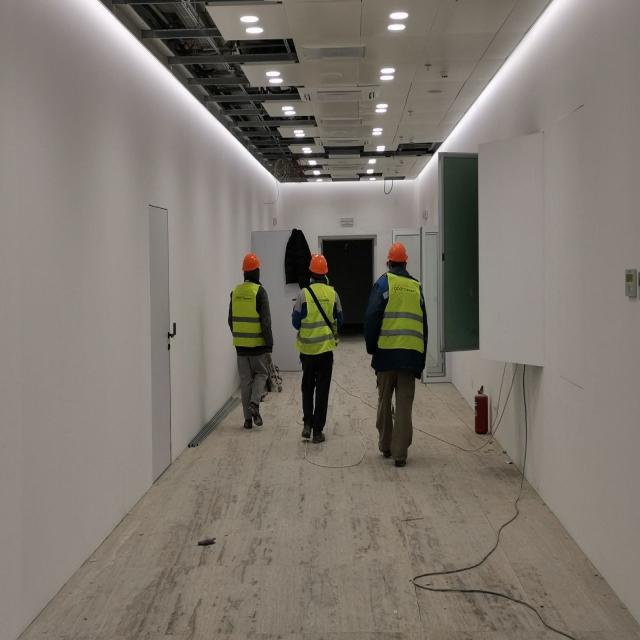Helmet: (385, 243, 412, 274), (306, 253, 330, 285), (240, 252, 264, 284)
